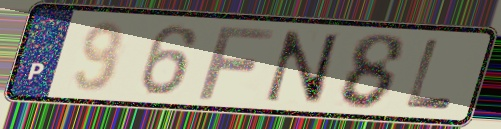6: (138, 22, 200, 98)
8: (339, 31, 408, 111)
9: (72, 18, 131, 95)
F: (195, 23, 279, 102)
L: (402, 37, 457, 113)
N: (262, 28, 341, 107)
